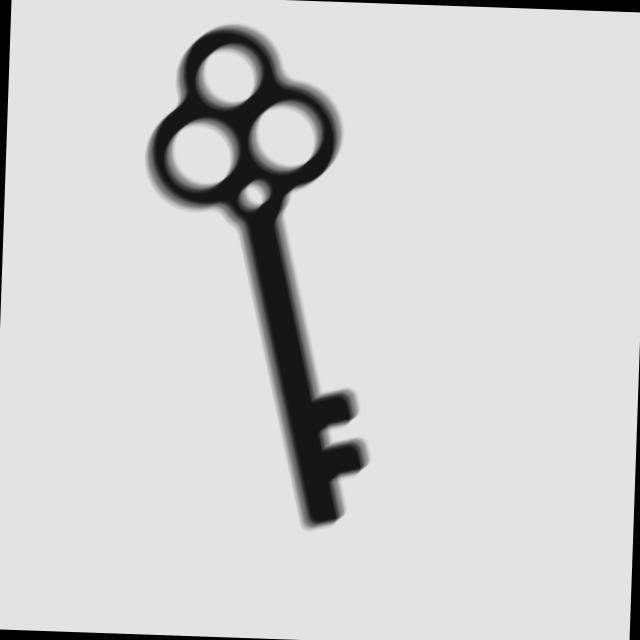key: (129, 16, 395, 540)
